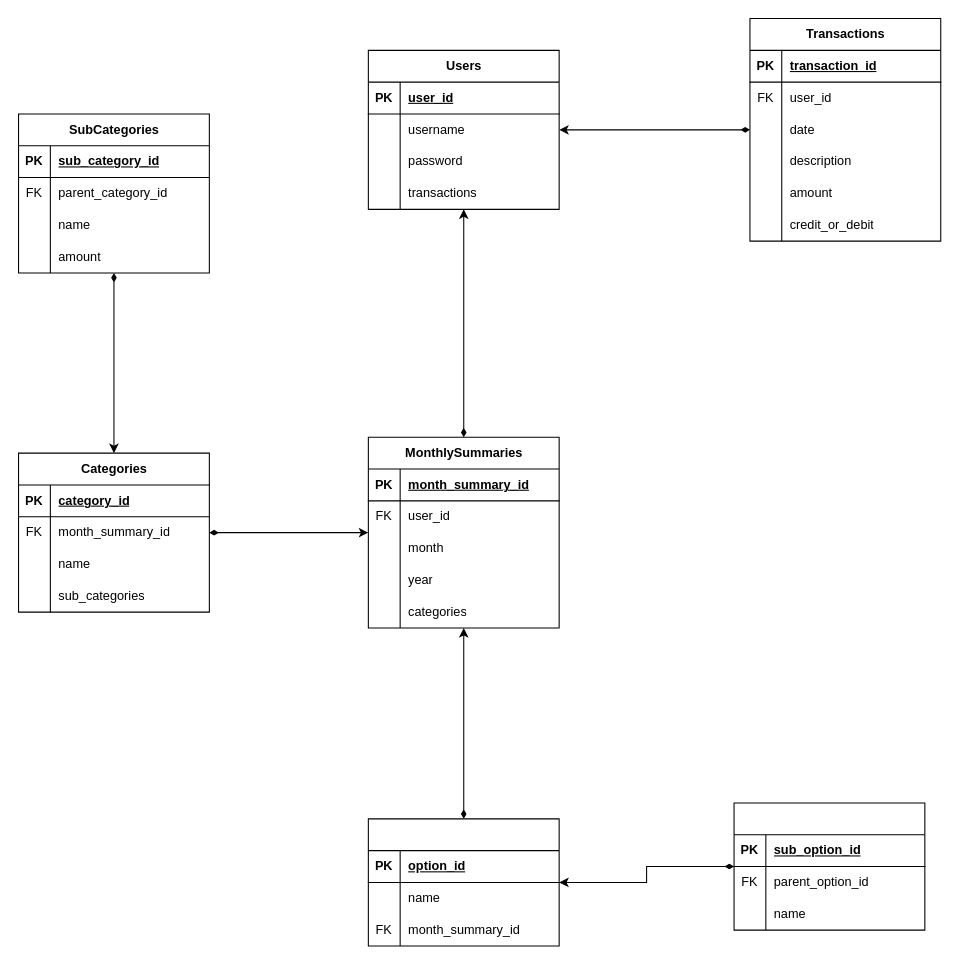
The diagram is 959 pixels wide and 965 high, and some of its shapes have lost their labels. Each missing label, with the box of its shape:
CategoryOptions: (367, 818, 559, 946)
SubCategoryOptions: (733, 802, 925, 930)
